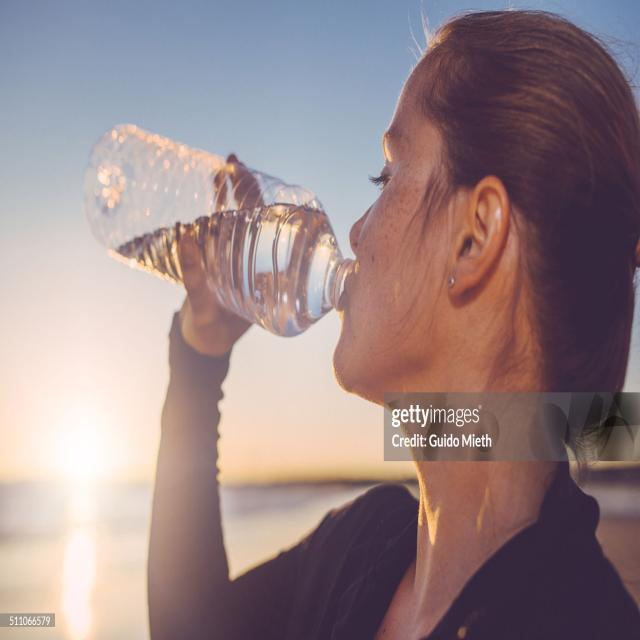bottle: (84, 122, 363, 338)
